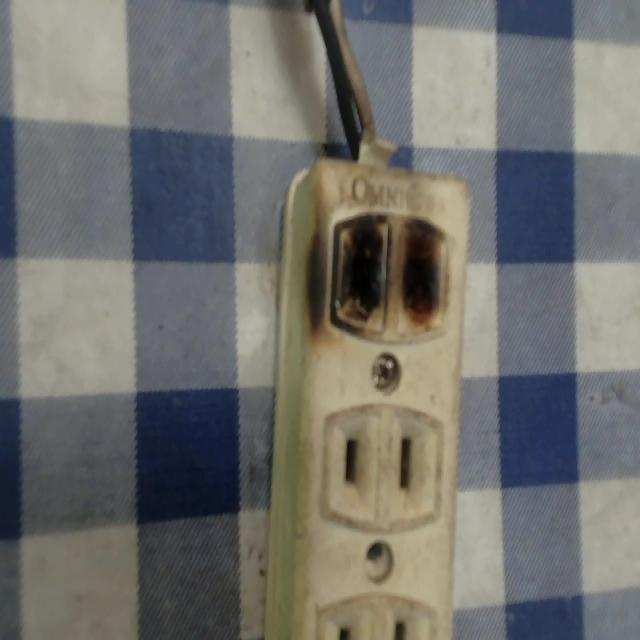-: (304, 201, 453, 344)
